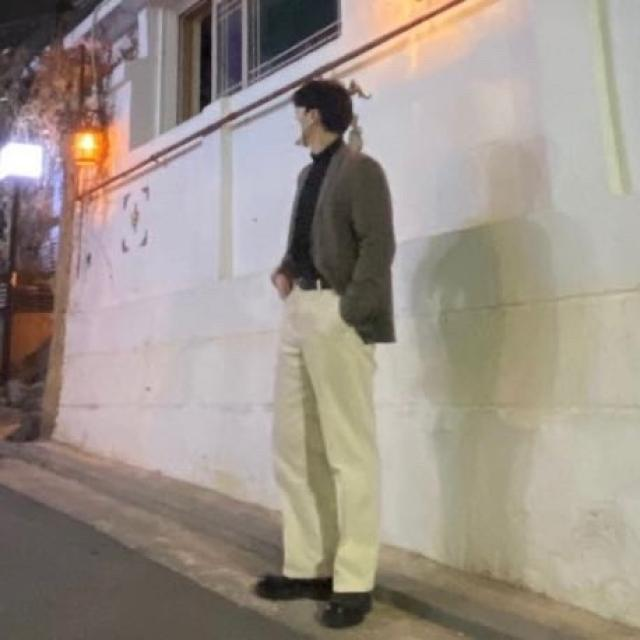blazer: (281, 147, 397, 343)
cottonpants: (272, 284, 382, 597)
